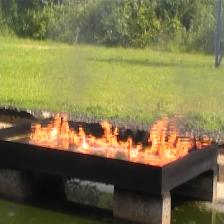fire: (29, 111, 211, 159)
